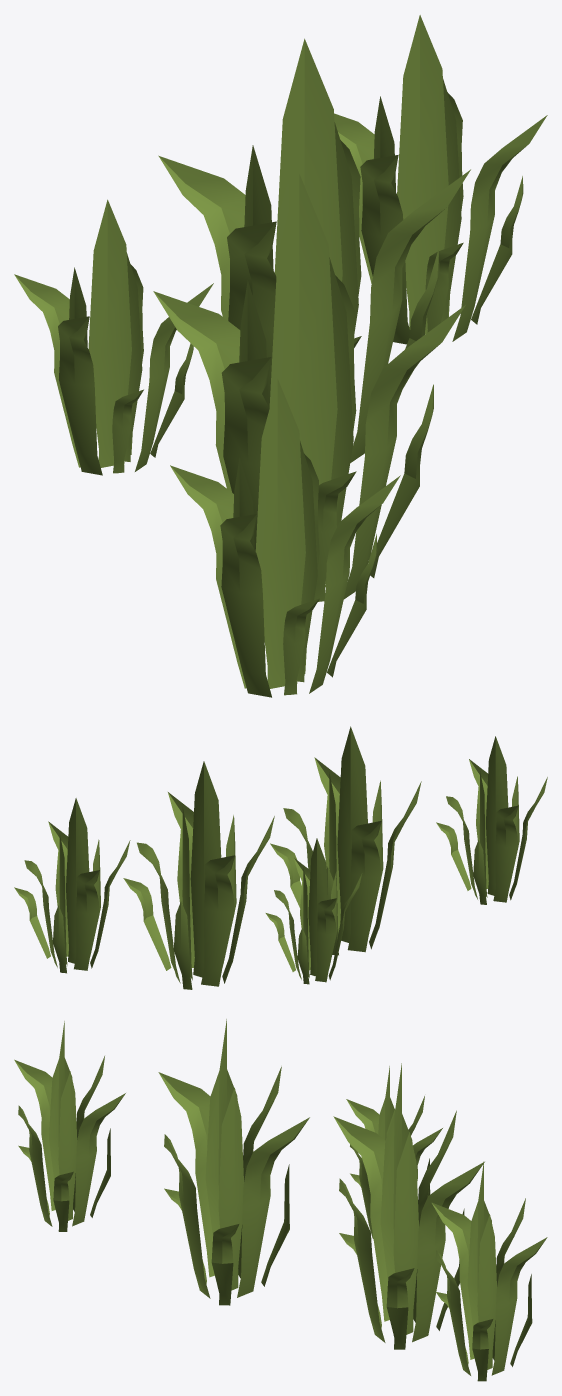
Rendered from grass patch.fbx.
3 views of the same model, one above another, from view 1: azimuth 30°, elevation 25°; view 2: azimuth 150°, elevation 25°; view 3: azimuth 270°, elevation 25° (orthographic). The views are drawn at different scales.
Visible parts, largest first — view 1: Grass; view 2: Grass; view 3: Grass.
Part boxes in pixels (x1=…): Grass: x1=14, y1=15, x2=547, y2=697; Grass: x1=14, y1=726, x2=547, y2=989; Grass: x1=14, y1=1019, x2=547, y2=1381.
Bounding box in the file's own units: 102 × 61.58 × 112.
